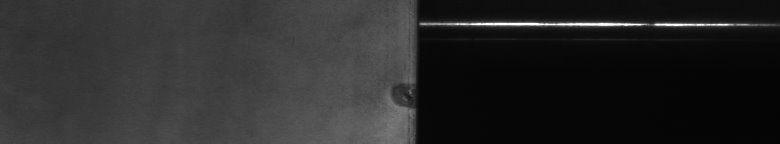hb: (384, 64, 408, 119)
